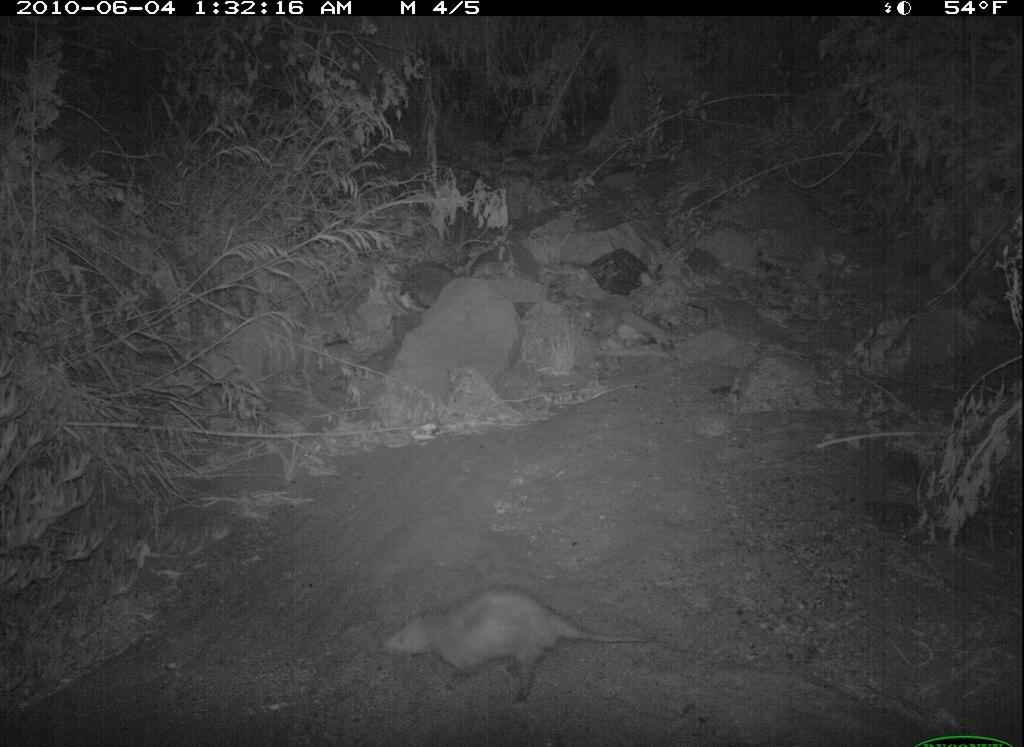opossum: (365, 572, 696, 712)
